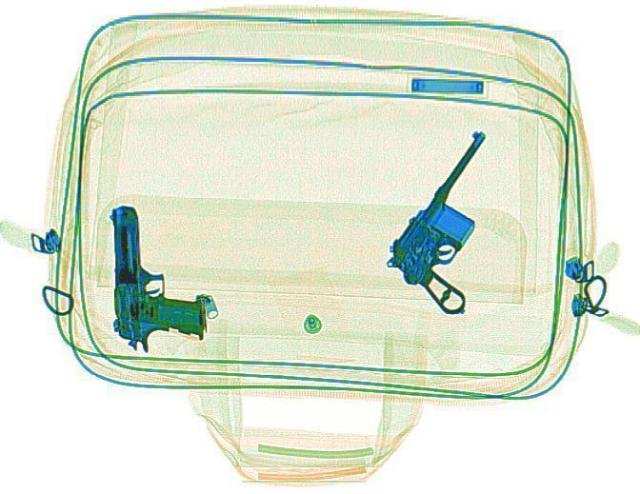Gun: (360, 126, 570, 316), (110, 203, 204, 349)
